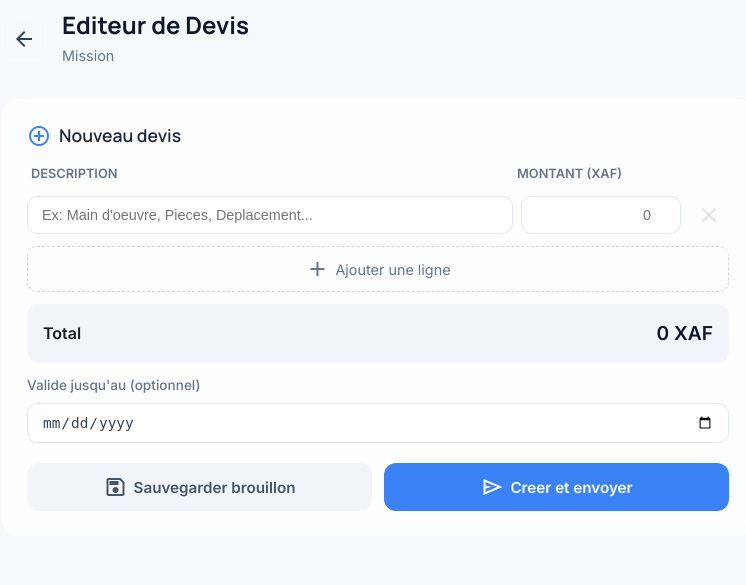
QuoteEditor › somme les lignes, crée puis envoie le devis
The width and height of the screenshot is (746, 585).
Expected: the button "Creer et envoyer" is shown, left=384, top=463, right=729, bottom=511
In the field with placeholder "Ex: Main d'oeuvre, Pieces, Deplacement...": point(270, 215) left=27, top=196, right=513, bottom=234, type "Main d'oeuvre"
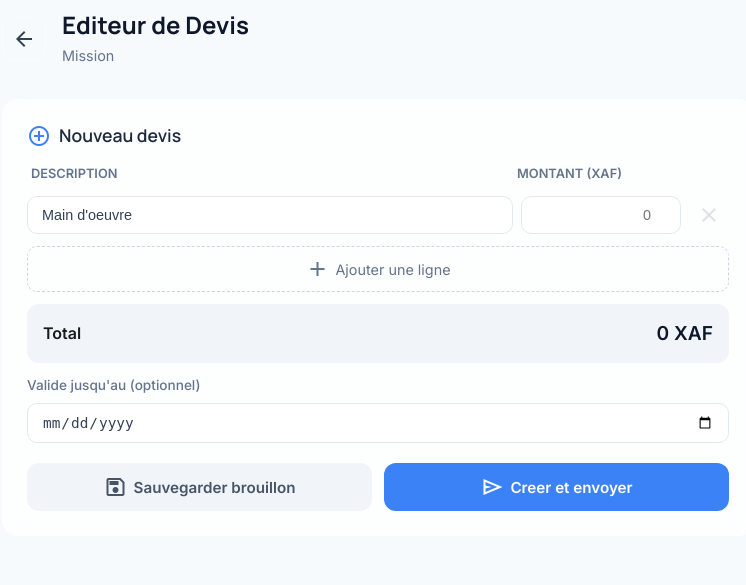
In the number field with placeholder "0": point(601, 215) left=521, top=196, right=681, bottom=234, type "10000"
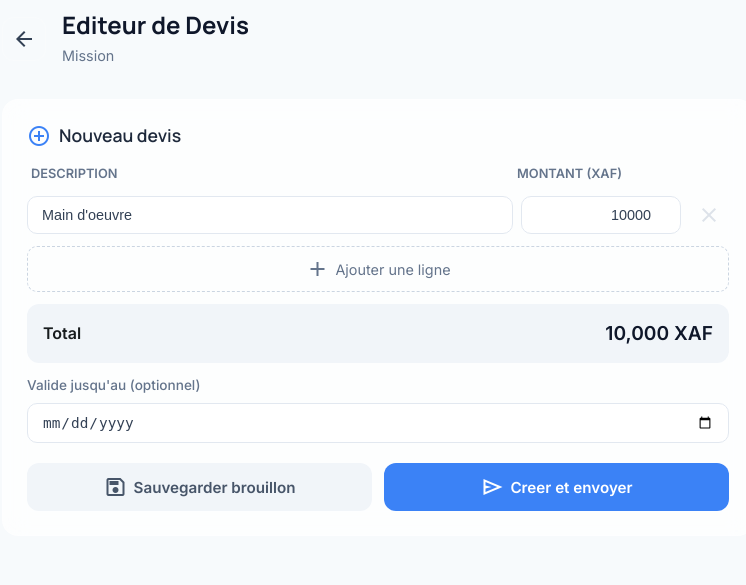
Click the button "Ajouter une ligne": point(378, 269) left=27, top=246, right=729, bottom=292
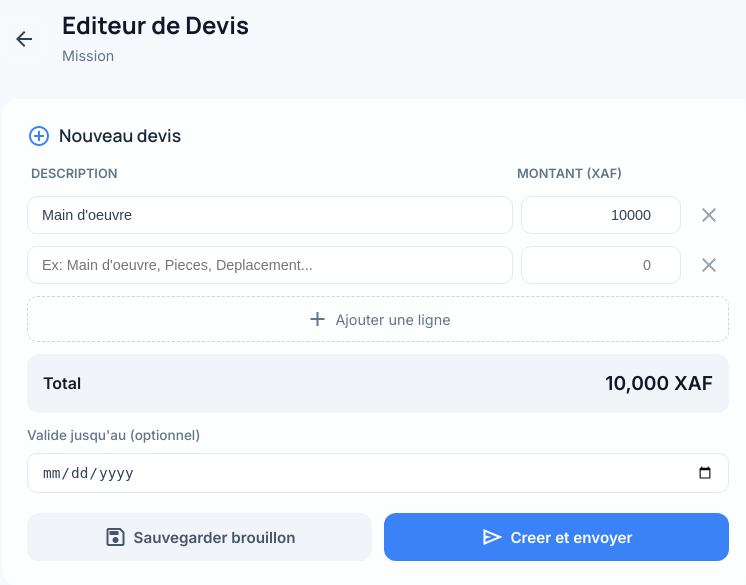
In the field with placeholder "Ex: Main d'oeuvre, Pieces, Deplacement...": point(270, 265) left=27, top=246, right=513, bottom=284, type "Pièces"
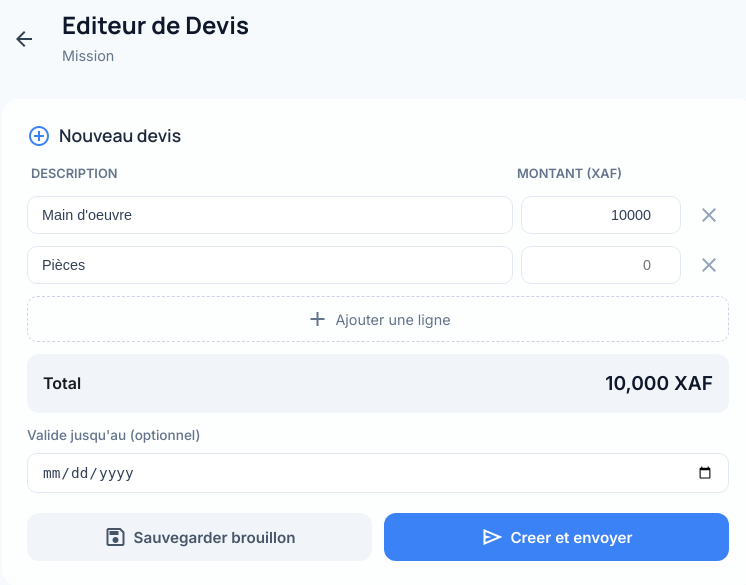
In the number field with placeholder "0": point(601, 265) left=521, top=246, right=681, bottom=284, type "2500"
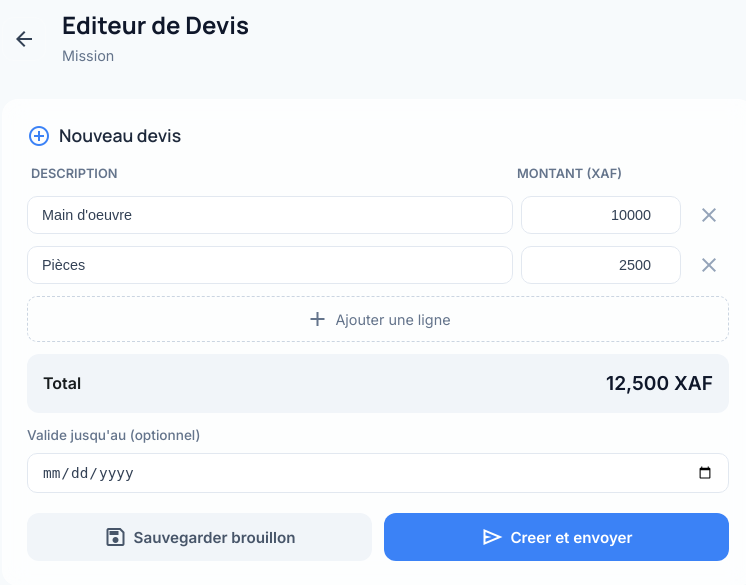
Click the button "Creer et envoyer": point(556, 537) left=384, top=513, right=729, bottom=561
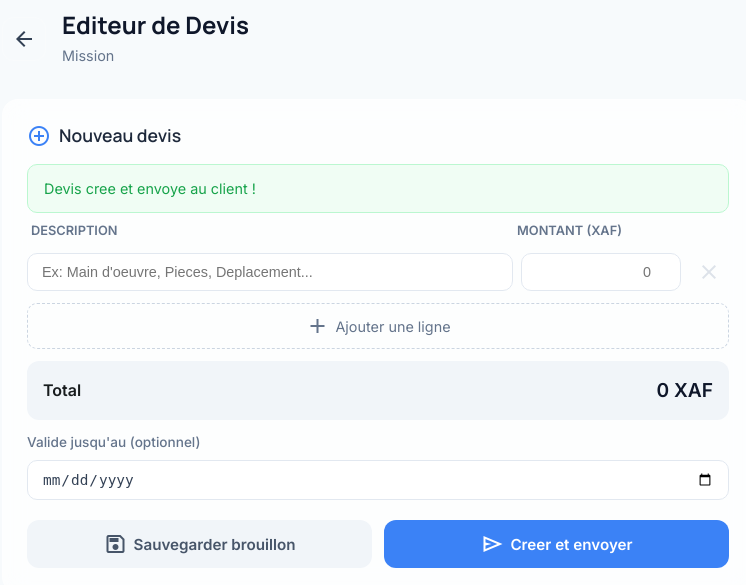
Expected: the text "Devis cree et envoye au client !" is shown, left=27, top=164, right=729, bottom=213
